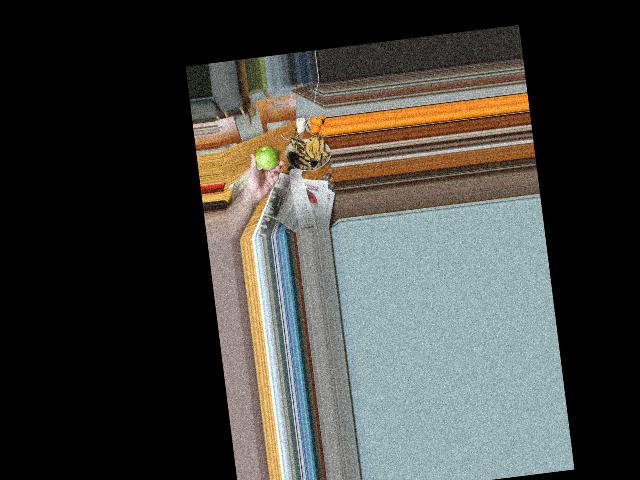apple: (255, 145, 278, 172)
